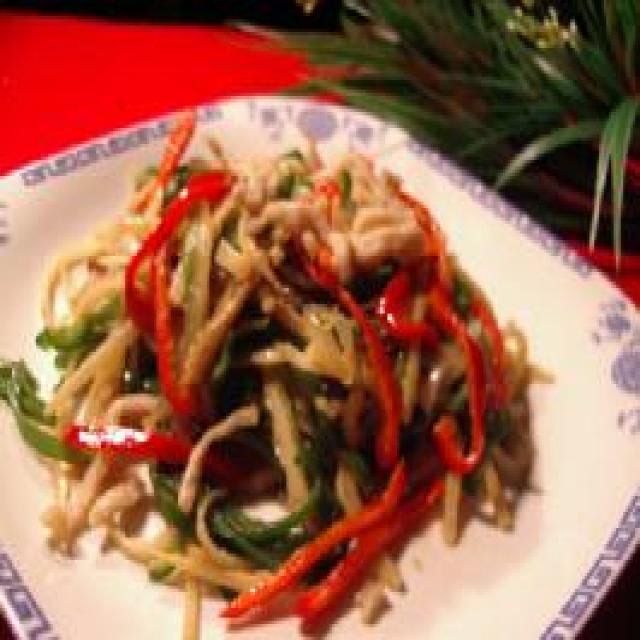牛肉菜式: (0, 115, 529, 640)
